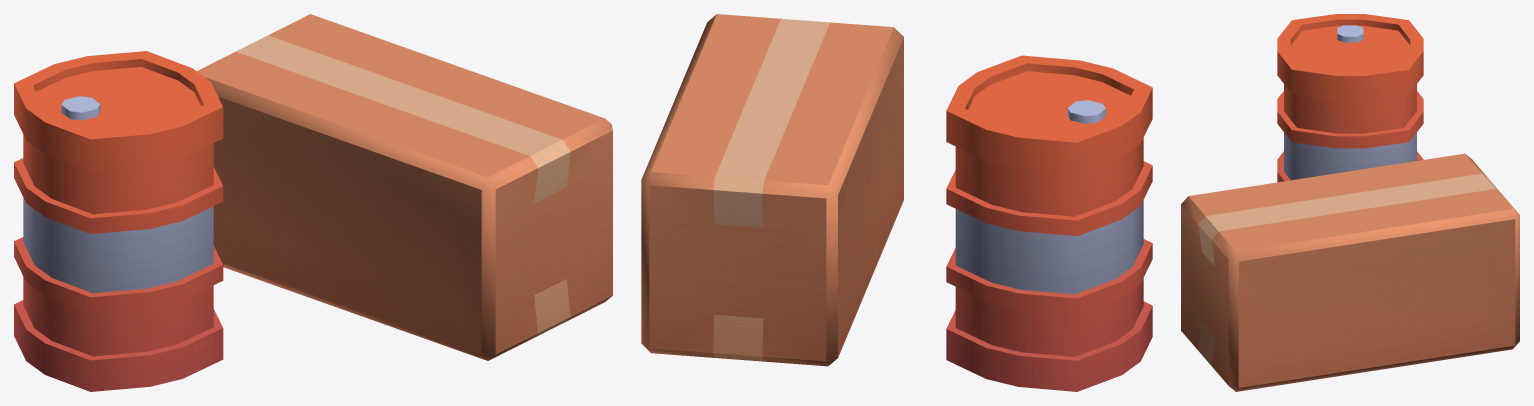
The model's file is stores.glb.
3 views of the same model, side by side, from view 1: azimuth 30°, elevation 25°; view 2: azimuth 150°, elevation 25°; view 3: azimuth 270°, elevation 25° (orthographic). The views are drawn at different scales.
Parts seen in each view (by area): view 1: stores; view 2: stores; view 3: stores.
Part boxes in pixels (x1,y1,x2,y2): stores: (14, 14, 612, 391); stores: (641, 14, 1152, 391); stores: (1181, 14, 1519, 391).
Size of the model in its own units: 4.3 by 2.06 by 3.28.
Materials: 2 (2 with a texture image).
